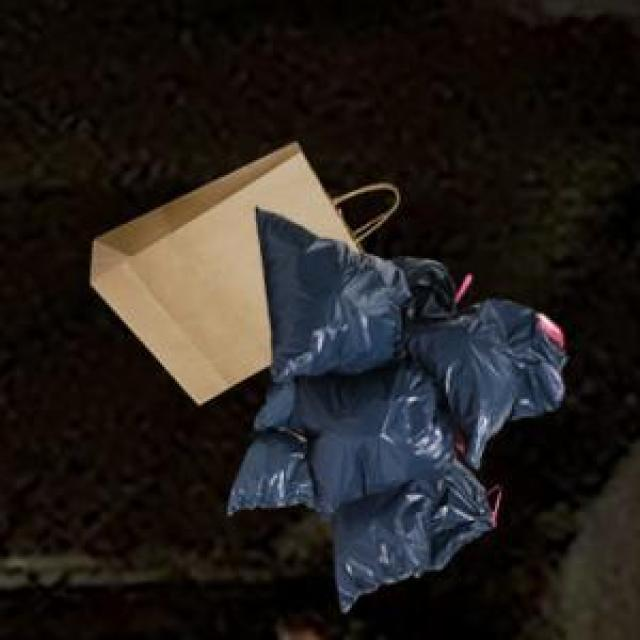miscellaneous trash: (253, 203, 561, 608), (224, 358, 312, 510)
paper: (85, 139, 392, 401)
